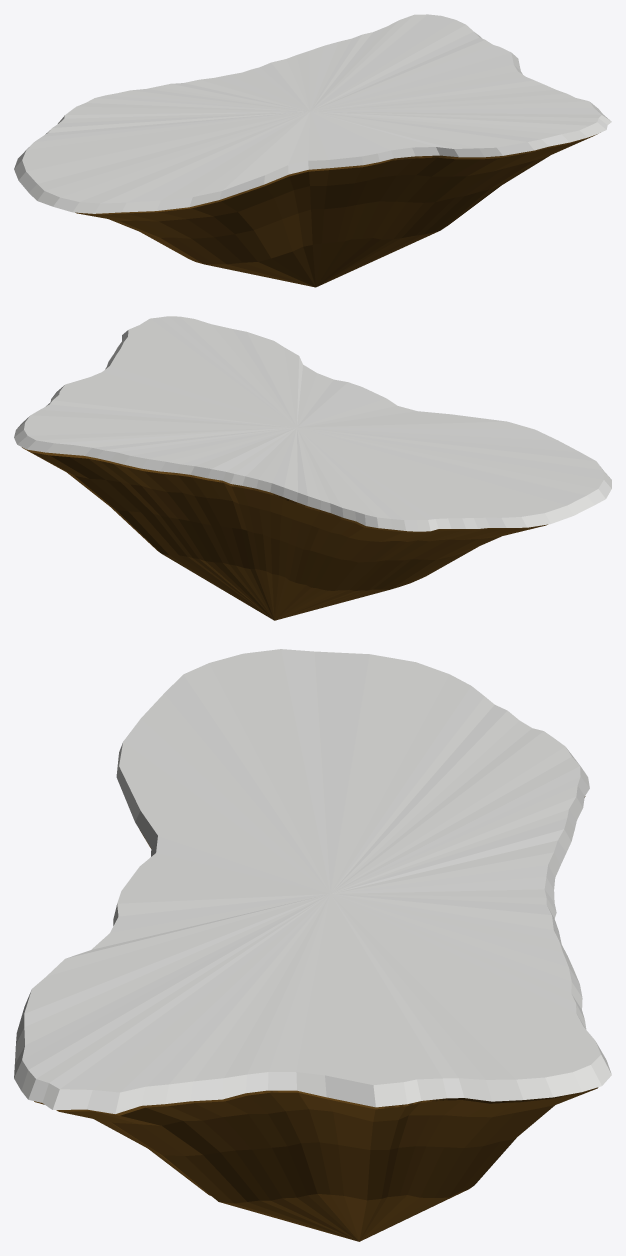
Rendered from snowground.glb.
3 renders of one model, top to bottom at view 1: azimuth 30°, elevation 25°; view 2: azimuth 150°, elevation 25°; view 3: azimuth 270°, elevation 25°, orthographic. The views are drawn at different scales.
Parts seen in each view (by area): view 1: Vert.001, Vert.003; view 2: Vert.001, Vert.003; view 3: Vert.001, Vert.003.
Part boxes in pixels (bbox=[...]): Vert.001: bbox=[14, 14, 611, 213]; Vert.003: bbox=[75, 134, 597, 287]; Vert.001: bbox=[14, 316, 611, 531]; Vert.003: bbox=[22, 447, 547, 620]; Vert.001: bbox=[14, 649, 611, 1113]; Vert.003: bbox=[34, 796, 598, 1241].
Bounding box in the file's own units: 23.57 × 8.08 × 13.04.
